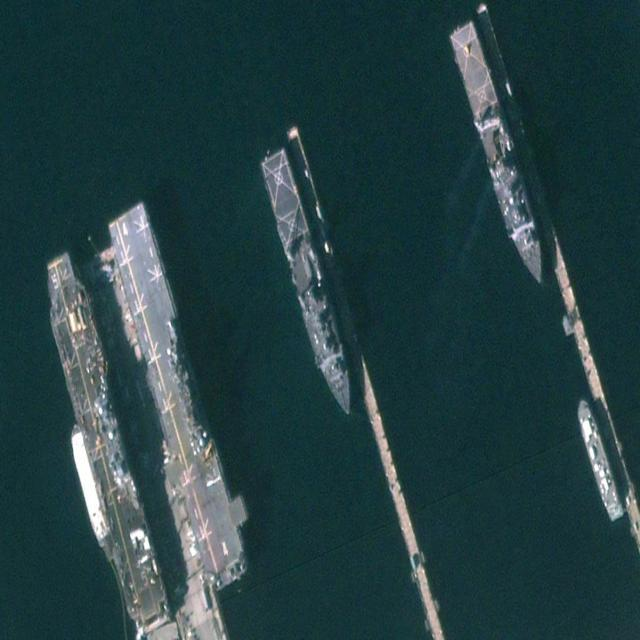Landing: (106, 190, 261, 597), (37, 245, 172, 631), (447, 18, 554, 294), (258, 145, 361, 425)
Other Ship: (571, 394, 625, 525), (67, 424, 110, 550)
